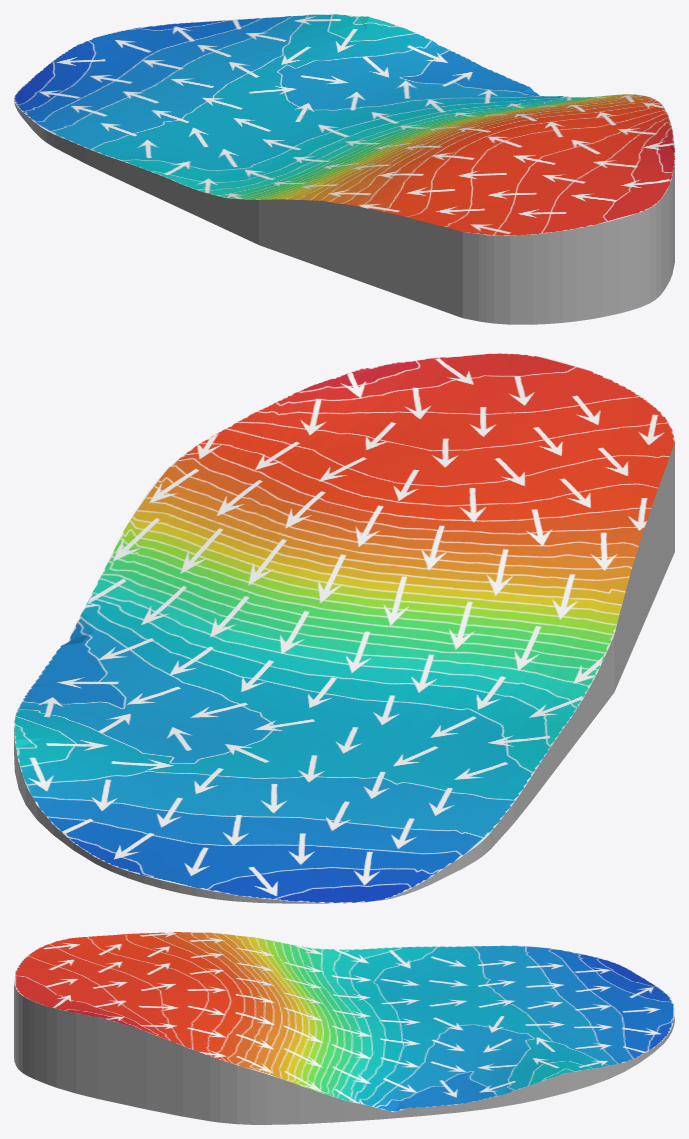
3 views of the same model, one above another, from view 1: azimuth 30°, elevation 25°; view 2: azimuth 150°, elevation 25°; view 3: azimuth 270°, elevation 25° (orthographic). The views are drawn at different scales.
Size of the model in its own units: 4.14 by 0.9392 by 6.84.
2 materials, 1 textured.
